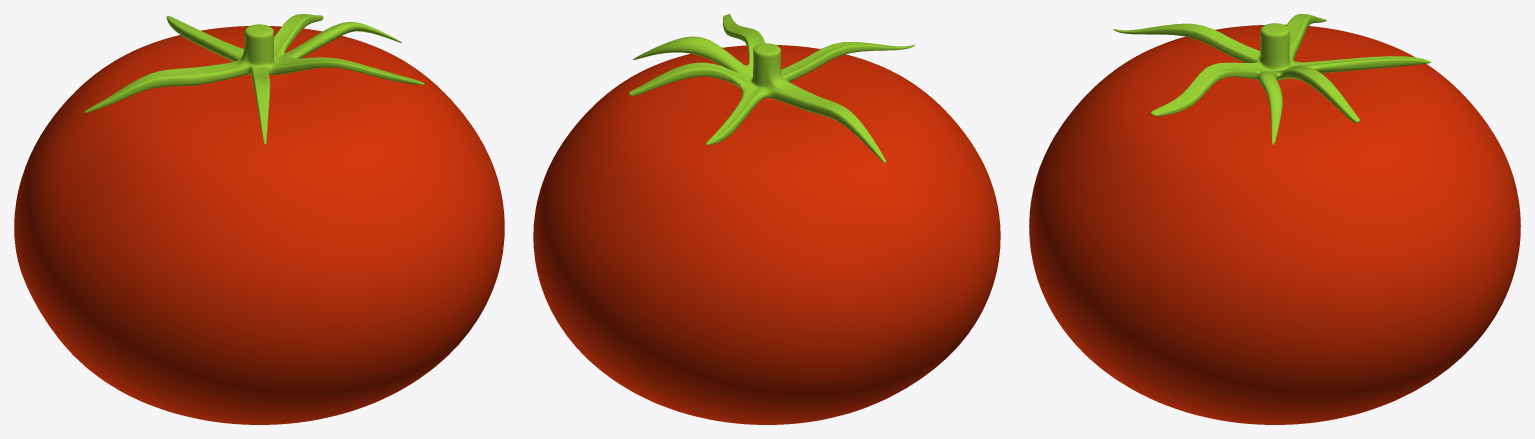
File: tomato.fbx
3 views of the same model, side by side, from view 1: azimuth 30°, elevation 25°; view 2: azimuth 150°, elevation 25°; view 3: azimuth 270°, elevation 25° (orthographic). The views are drawn at different scales.
Visible parts, largest first — view 1: Tomato, tomato stem; view 2: Tomato, tomato stem; view 3: Tomato, tomato stem.
Boxes of the visible parts, x1,y1,x2,y2 form: Tomato: (14,26,504,424); tomato stem: (84,14,424,144); Tomato: (533,45,1000,424); tomato stem: (629,14,915,162); Tomato: (1029,24,1520,424); tomato stem: (1113,14,1431,144).
Bounding box in the file's own units: 0.6389 × 0.5104 × 0.6388.
